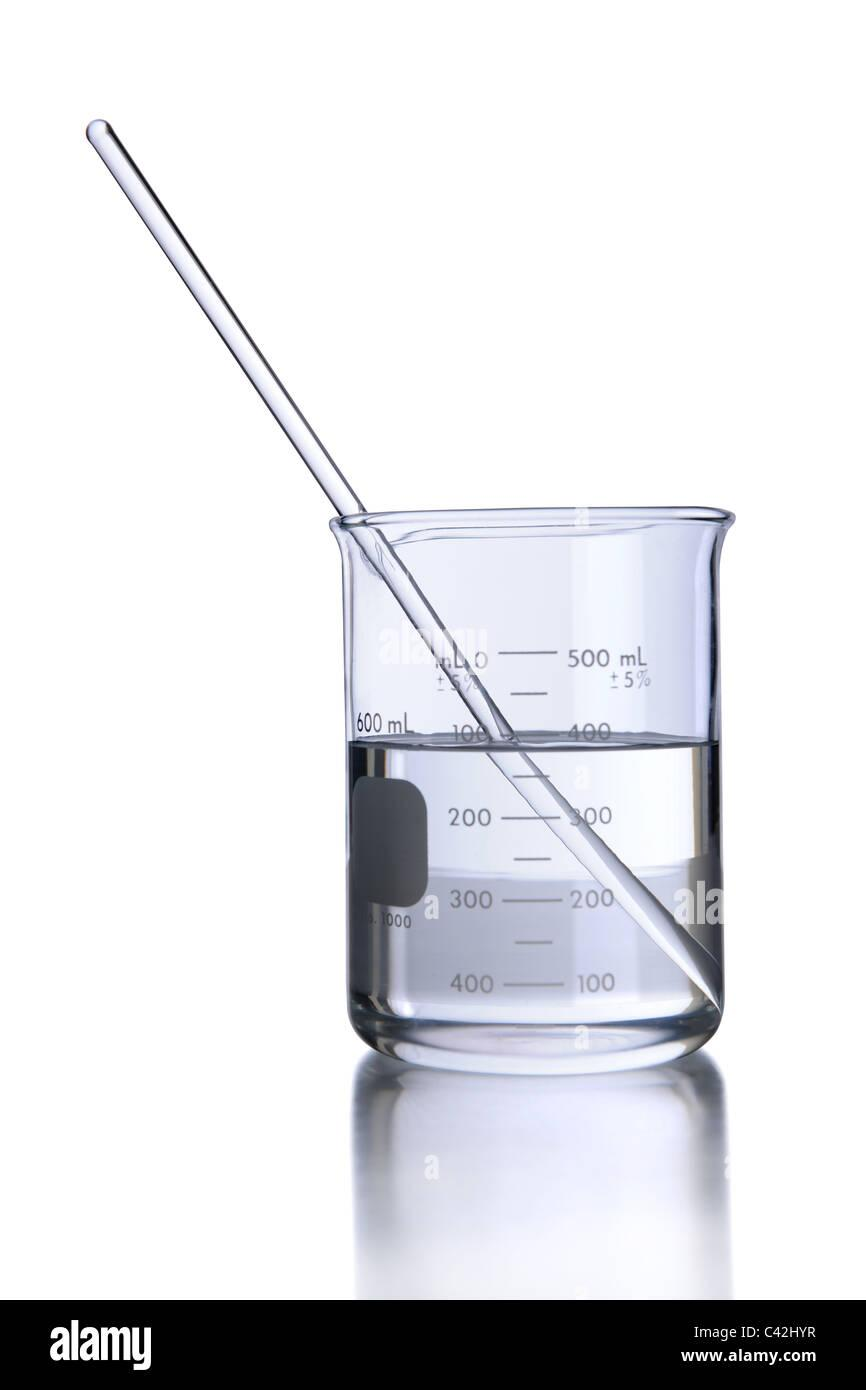Beaker: (301, 495, 737, 1074)
